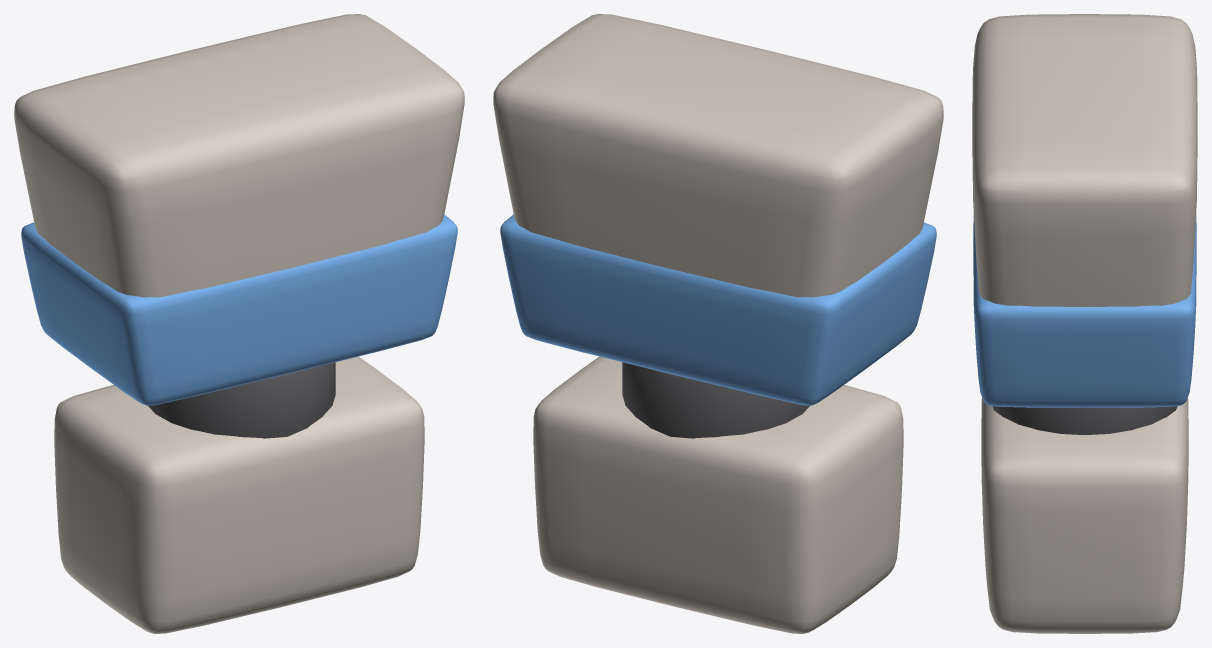
File: Torso.glb
3 views of the same model, side by side, from view 1: azimuth 30°, elevation 25°; view 2: azimuth 150°, elevation 25°; view 3: azimuth 270°, elevation 25° (orthographic). The views are drawn at different scales.
Parts seen in each view (by area): view 1: Torso; view 2: Torso; view 3: Torso.
Part boxes in pixels (left/top/right/bottom): Torso: left=14, top=14, right=464, bottom=633; Torso: left=493, top=14, right=943, bottom=633; Torso: left=972, top=14, right=1197, bottom=633.
Size of the model in its own units: 0.3835 by 0.5043 by 0.2111.
